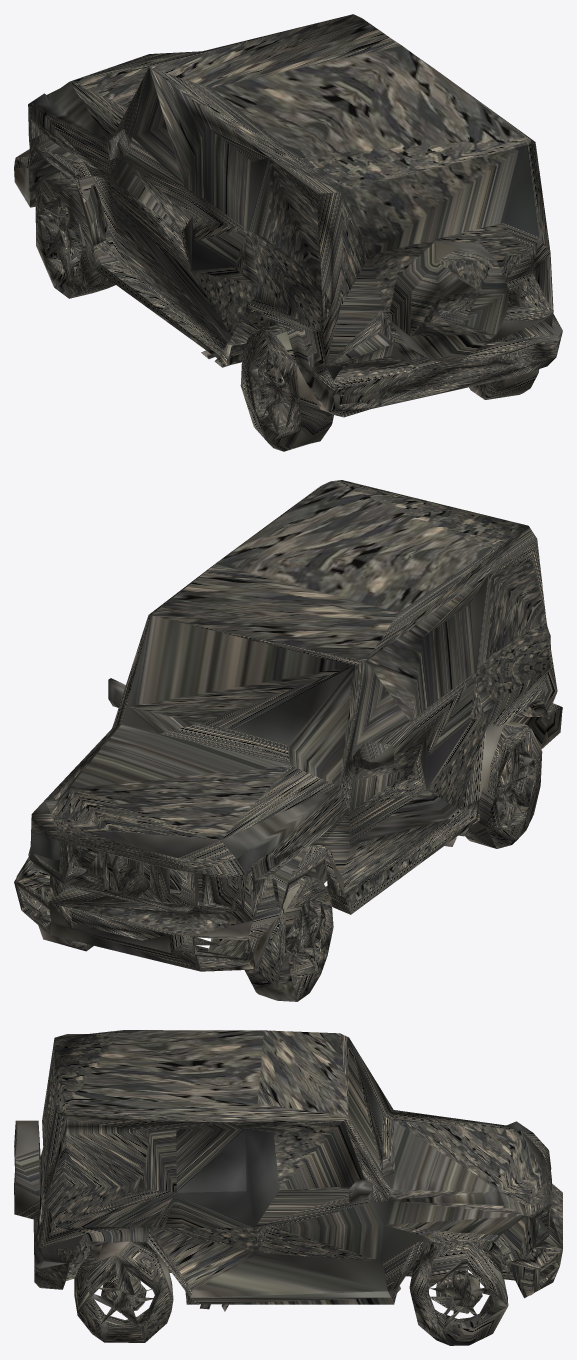
The model's file is Luxury_SUV_Gelik_22k.glb.
3 views of the same model, one above another, from view 1: azimuth 30°, elevation 25°; view 2: azimuth 150°, elevation 25°; view 3: azimuth 270°, elevation 25° (orthographic). The views are drawn at different scales.
Visible parts, largest first — view 1: output_unwrapped; view 2: output_unwrapped; view 3: output_unwrapped.
Boxes of the visible parts, left/top/right/bottom form: output_unwrapped: left=14, top=14, right=562, bottom=451; output_unwrapped: left=14, top=480, right=562, bottom=1001; output_unwrapped: left=14, top=1030, right=562, bottom=1345.
Bounding box in the file's own units: 2.28 × 2.24 × 4.77.
1 material, 1 textured.
